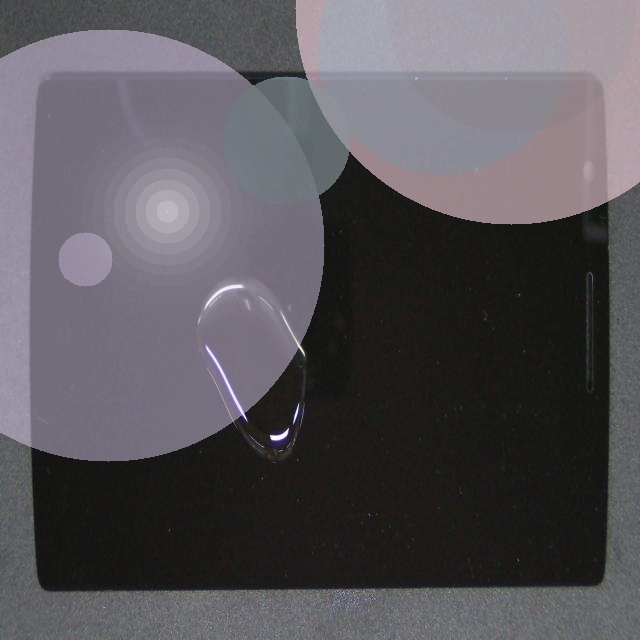oil: (102, 257, 416, 640)
